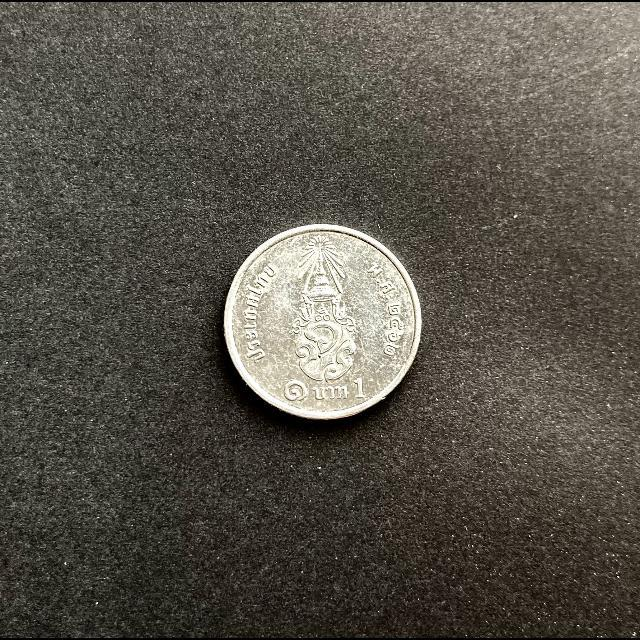1 Bath: (224, 224, 425, 423)
